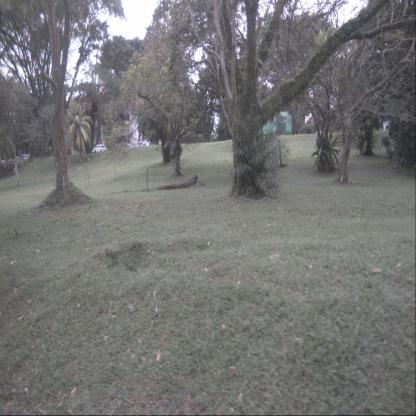vehicle-car: (18, 154, 35, 165), (92, 144, 107, 154), (141, 138, 152, 148)
